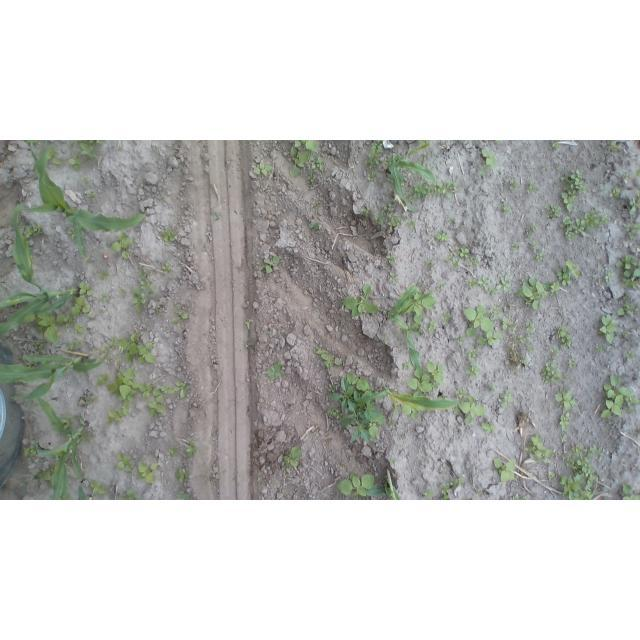Maize: (25, 142, 148, 258), (1, 204, 78, 340), (34, 397, 87, 500), (0, 353, 108, 400), (390, 281, 431, 371), (390, 141, 434, 214), (356, 388, 459, 417), (367, 468, 400, 501), (78, 485, 86, 499)
Weeds: (107, 367, 189, 423), (329, 372, 386, 445), (557, 446, 601, 500), (460, 306, 501, 348), (515, 273, 562, 309), (602, 374, 639, 419), (342, 283, 380, 317), (408, 359, 445, 392), (118, 332, 154, 364), (338, 472, 374, 500), (563, 169, 586, 212), (289, 140, 315, 178), (524, 434, 555, 463), (616, 253, 640, 289), (458, 395, 486, 425), (413, 293, 439, 325), (35, 313, 59, 344), (374, 202, 402, 228), (597, 314, 619, 344), (559, 216, 585, 241), (407, 182, 437, 202), (494, 458, 518, 482), (110, 233, 132, 259), (469, 274, 496, 295), (582, 210, 609, 230), (315, 347, 343, 366), (133, 288, 156, 311), (439, 478, 463, 500), (137, 461, 159, 483), (540, 363, 561, 386), (365, 140, 382, 168), (557, 388, 576, 412), (439, 181, 462, 198), (284, 448, 303, 468), (71, 296, 92, 314), (556, 325, 573, 347), (265, 360, 283, 379), (544, 204, 564, 221), (624, 222, 640, 243), (482, 149, 498, 170), (620, 484, 640, 500), (116, 453, 132, 472), (160, 226, 177, 243), (556, 267, 572, 285), (23, 223, 42, 238), (500, 389, 514, 409), (497, 273, 512, 291), (566, 259, 581, 277), (47, 145, 61, 164), (79, 142, 96, 157), (254, 161, 272, 175), (559, 413, 572, 432), (402, 407, 421, 420), (465, 365, 480, 381), (264, 256, 278, 273), (78, 282, 95, 296), (90, 481, 107, 495), (629, 195, 640, 216), (500, 320, 517, 333), (618, 302, 633, 316), (447, 254, 460, 270), (69, 154, 82, 170), (36, 471, 51, 484), (176, 467, 189, 482), (172, 312, 188, 324), (63, 415, 76, 429), (68, 341, 84, 352), (118, 490, 135, 500), (388, 271, 400, 285), (97, 373, 108, 388), (57, 315, 75, 324), (569, 444, 585, 454), (440, 312, 452, 325), (526, 182, 538, 195), (140, 279, 154, 290), (455, 388, 470, 398), (436, 232, 451, 242), (529, 241, 543, 251), (315, 157, 325, 171), (550, 347, 561, 359), (482, 423, 494, 434), (471, 256, 481, 269), (187, 440, 195, 456), (627, 349, 636, 363), (460, 248, 472, 258), (607, 141, 619, 151), (306, 174, 316, 186), (25, 445, 35, 457), (99, 292, 112, 301), (109, 335, 117, 349), (33, 342, 47, 350), (605, 272, 615, 283), (510, 178, 520, 189), (609, 190, 621, 199), (178, 491, 190, 500), (162, 261, 170, 274), (527, 324, 538, 333), (550, 141, 561, 150), (429, 320, 436, 334), (487, 383, 497, 392), (471, 348, 481, 357), (362, 206, 370, 217), (101, 270, 112, 278), (245, 321, 253, 332), (68, 227, 75, 239), (424, 492, 434, 500), (518, 335, 528, 343), (595, 344, 603, 354), (531, 223, 539, 233), (75, 324, 85, 332), (68, 140, 76, 150), (401, 361, 409, 371), (623, 171, 628, 186), (568, 359, 577, 367), (511, 242, 520, 250), (368, 172, 377, 180), (87, 191, 96, 199), (84, 176, 93, 184), (476, 490, 484, 498), (560, 434, 568, 442), (520, 358, 529, 365), (140, 271, 152, 276), (76, 140, 106, 142), (525, 231, 533, 238), (503, 207, 511, 214), (452, 408, 460, 415), (382, 334, 389, 342), (548, 471, 557, 477), (509, 495, 519, 500), (623, 296, 633, 301), (527, 345, 535, 351), (407, 220, 415, 226), (538, 253, 543, 262), (119, 288, 125, 295), (169, 448, 176, 454), (636, 168, 640, 177), (543, 164, 549, 169), (635, 308, 640, 313), (495, 141, 500, 142)
